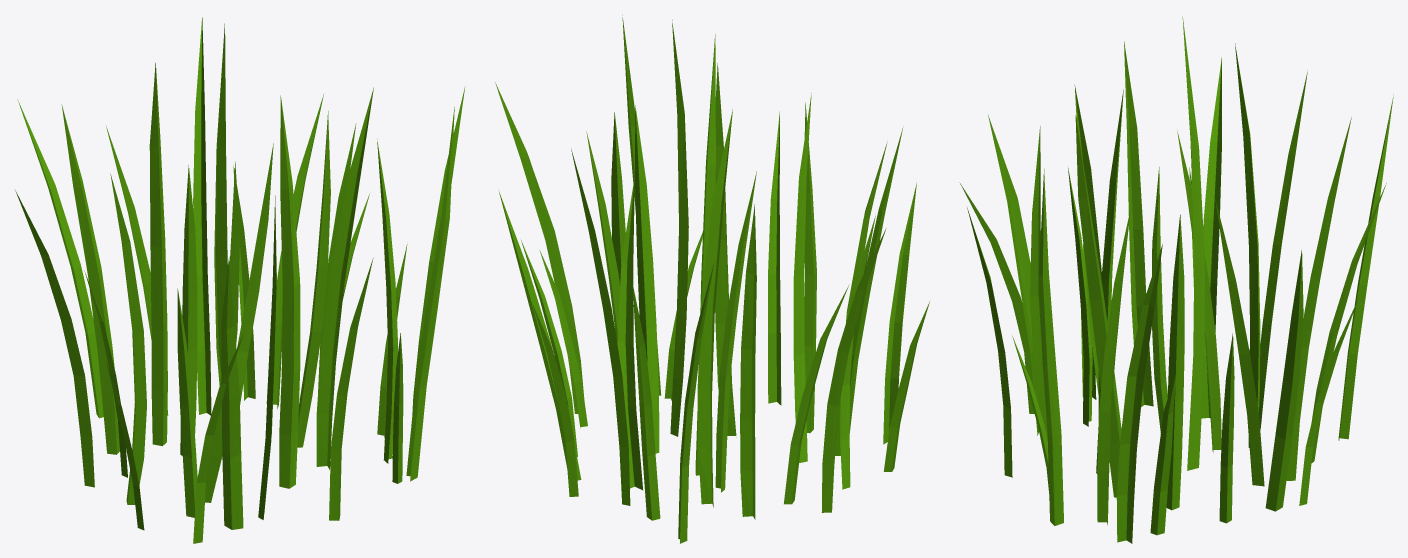
The model's file is GrassTall_3.fbx.
3 renders of one model, left to right at view 1: azimuth 30°, elevation 25°; view 2: azimuth 150°, elevation 25°; view 3: azimuth 270°, elevation 25°, orthographic.
Visible parts, largest first — view 1: Mesh; view 2: Mesh; view 3: Mesh.
Part boxes in pixels (box(x1,y1,x2,y2)): Mesh: box(15, 17, 465, 543); Mesh: box(495, 15, 929, 543); Mesh: box(959, 17, 1393, 543).
Size of the model in its own units: 267 by 268 by 235.
